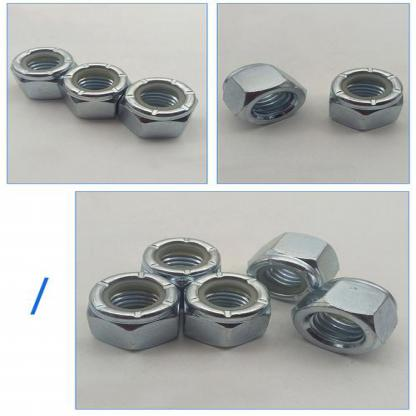FOD: (290, 275, 400, 358), (245, 226, 342, 306), (182, 269, 272, 352), (86, 272, 180, 351), (219, 60, 309, 128), (141, 234, 224, 304), (324, 65, 407, 132), (119, 75, 200, 143), (60, 59, 132, 121), (11, 42, 76, 106)
